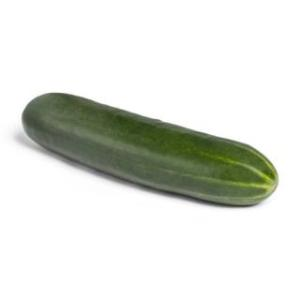cucumber: (17, 90, 283, 210)
